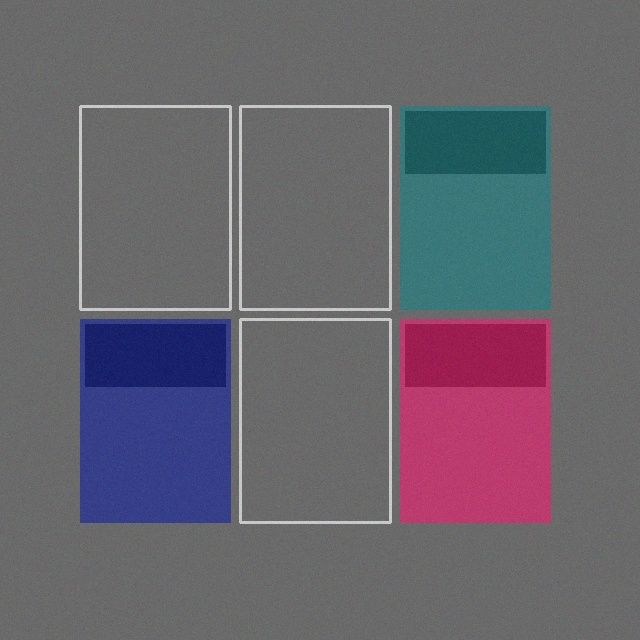space-empty: (80, 106, 230, 309), (240, 106, 390, 309), (240, 319, 390, 522)
space-occupied: (400, 106, 550, 309), (80, 319, 230, 522), (400, 319, 550, 522)
